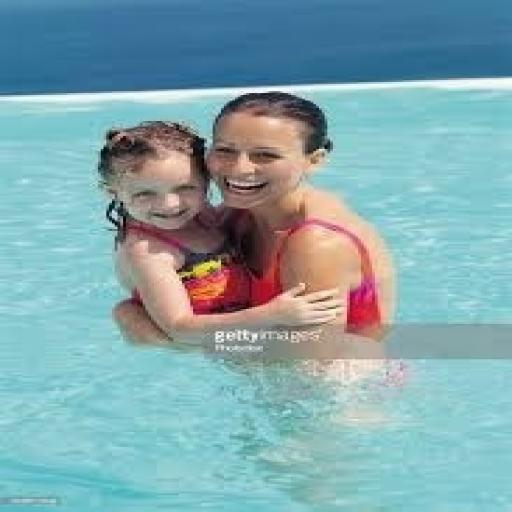hugging: (95, 89, 403, 363)
